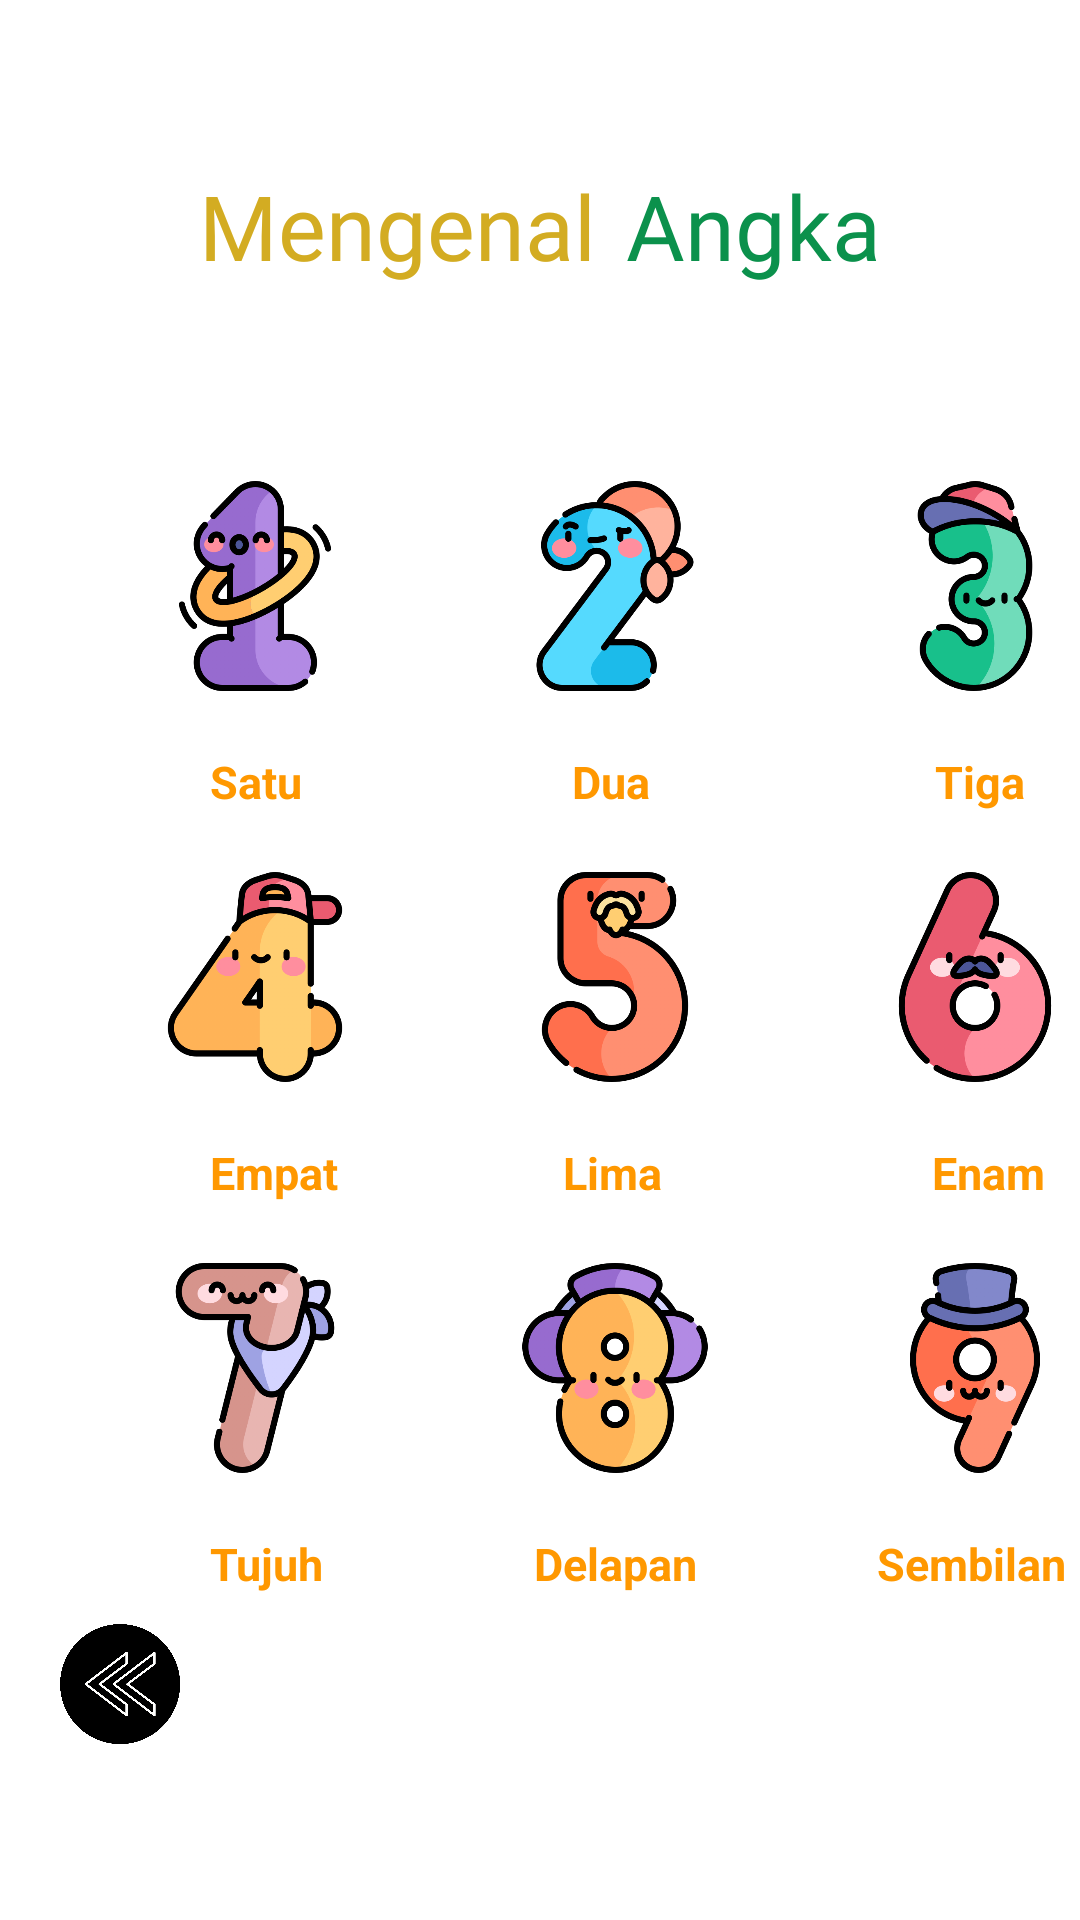

Screen size 1080px×1920px. Icon name, then its center in pixels as (x,y):
prev: (120,1684)
